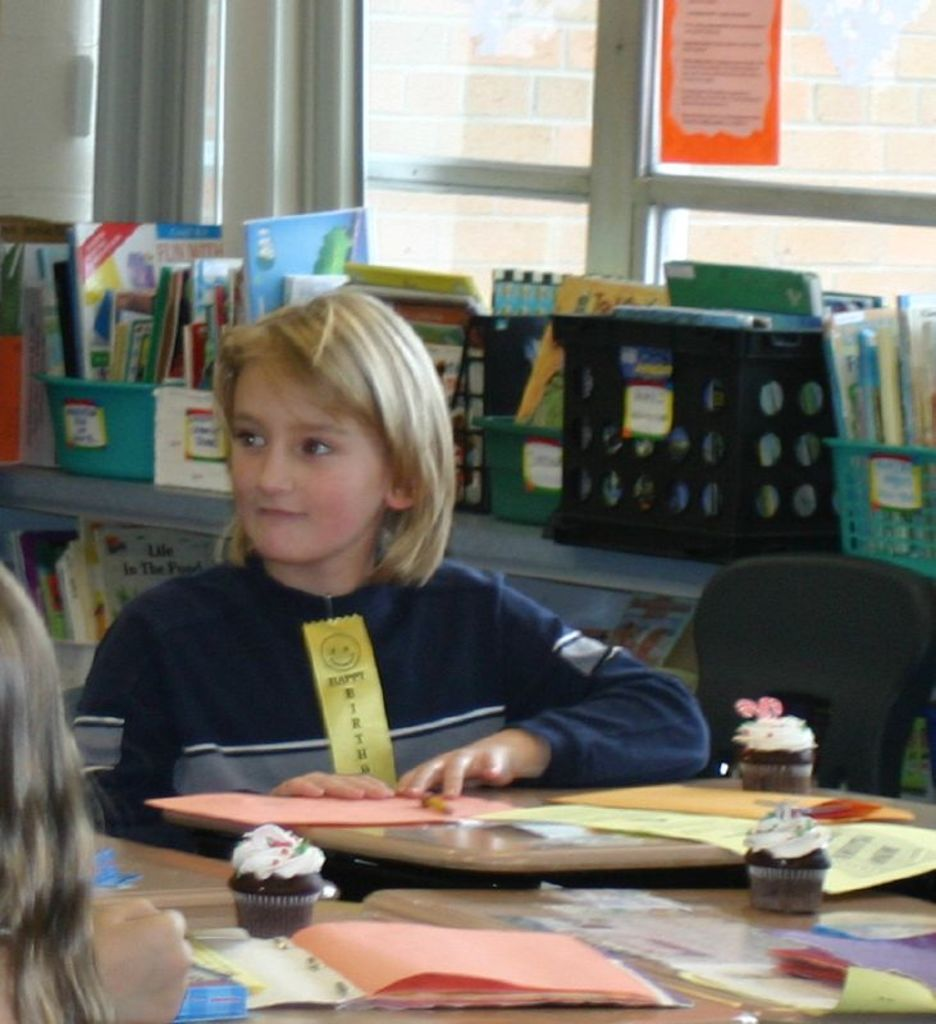cake: (220, 817, 334, 934), (731, 803, 839, 922), (714, 691, 817, 787)
